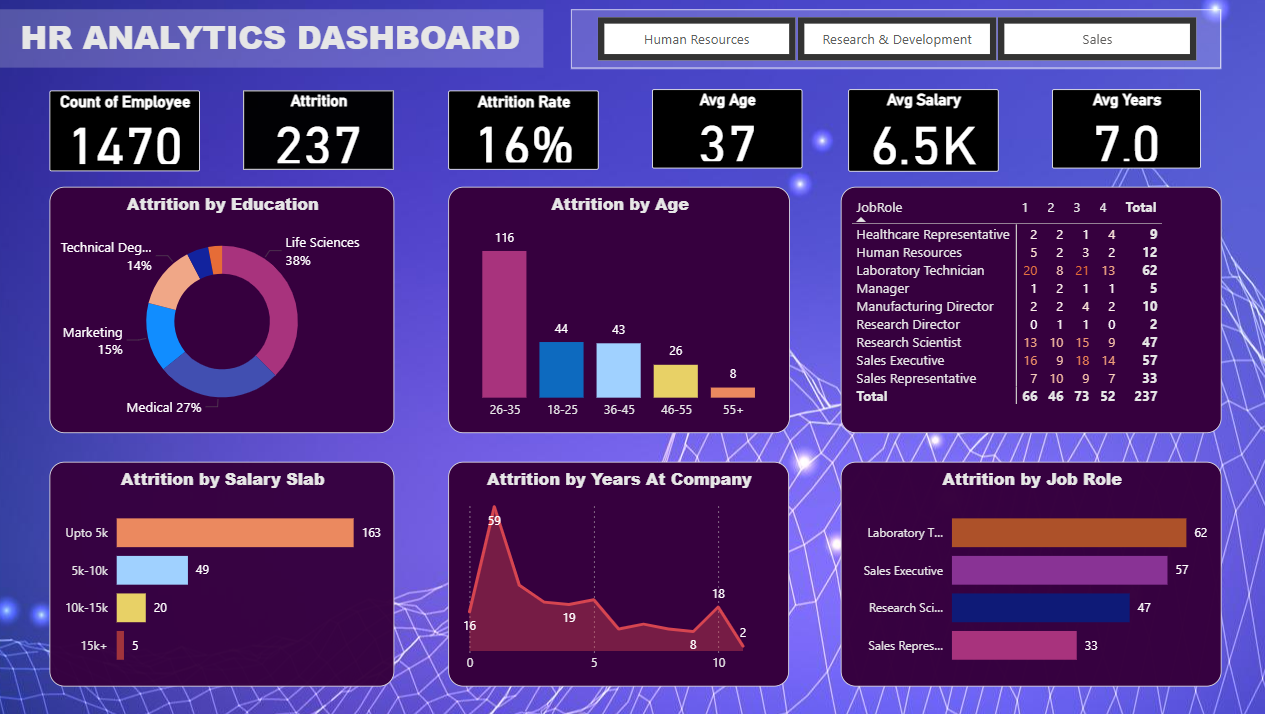

Layout of this report page (visuals, bound fields, positions):
{"tool":"powerbi","page":{"name":"Page 1","canvas":[1280,720],"ordinal":0},"visuals":[{"type":"card","title":"Count of Employee","fields":{"Values":["CountNonNull(HR_Analytics.EmpID)"]},"box":[51.9,92.3,150,80.8],"z":0},{"type":"card","title":"Attrition Rate","fields":{"Values":["HR_Analytics.AttritionRate"]},"box":[451.6,92.3,150,79.4],"z":1000},{"type":"card","title":"Avg Age","fields":{"Values":["Avg(HR_Analytics.Age)"]},"box":[655,90.9,150,79.4],"z":2000},{"type":"card","title":"Attrition","fields":{"Values":["Sum(HR_Analytics.AttritionCount)"]},"box":[246.7,92.3,150,79.4],"z":3000},{"type":"card","title":"Avg Salary","fields":{"Values":["Avg(HR_Analytics.MonthlyIncome)"]},"box":[851.2,90.9,150,82.2],"z":4000},{"type":"card","title":"Avg Years","fields":{"Values":["Avg(HR_Analytics.YearsAtCompany)"]},"box":[1054.7,90.9,148.6,79.4],"z":5000},{"type":"donutChart","title":"Attrition by Education","fields":{"Category":["HR_Analytics.EducationField"],"Y":["Sum(HR_Analytics.AttritionCount)"]},"box":[51.9,189,344.8,246.7],"z":6000},{"type":"columnChart","title":"Attrition by Age","fields":{"Category":["HR_Analytics.AgeGroup"],"Y":["Sum(HR_Analytics.AttritionCount)"]},"box":[451.6,189,341.9,246.7],"z":7000},{"type":"pivotTable","fields":{"Columns":["HR_Analytics.JobSatisfaction"],"Rows":["HR_Analytics.JobRole"],"Values":["Sum(HR_Analytics.AttritionCount)"]},"box":[844,189,380.9,246.7],"z":8000},{"type":"barChart","title":"Attrition by Salary Slab","fields":{"Category":["HR_Analytics.SalarySlab"],"Y":["Sum(HR_Analytics.AttritionCount)"]},"box":[51.9,463.1,344.8,225.1],"z":9000},{"type":"barChart","title":"Attrition by Job Role","fields":{"Category":["HR_Analytics.JobRole"],"Y":["Sum(HR_Analytics.AttritionCount)"]},"box":[844,463.1,380.9,225.1],"z":10000},{"type":"areaChart","title":"Attrition by Years At Company","fields":{"Category":["HR_Analytics.YearsAtCompany"],"Y":["Sum(HR_Analytics.AttritionCount)"]},"box":[451.6,463.1,340.5,225.1],"z":11000},{"type":"slicer","fields":{"Values":["HR_Analytics.Department"]},"box":[574.2,11.5,650.7,59.2],"z":12000},{"type":"textbox","box":[0,11.7,546.7,58.3],"z":13000}]}

Visuals, with their boxes in screenshot pixels (x1, y1, x2, y2), scaled from the page's 1280x720 canvas onto the 1265x714 screenshot:
"Count of Employee" card: detection(51, 92, 200, 172)
"Attrition Rate" card: detection(446, 92, 595, 170)
"Avg Age" card: detection(647, 90, 796, 169)
"Attrition" card: detection(244, 92, 392, 170)
"Avg Salary" card: detection(841, 90, 989, 172)
"Avg Years" card: detection(1042, 90, 1189, 169)
"Attrition by Education" donutChart: detection(51, 187, 392, 432)
"Attrition by Age" columnChart: detection(446, 187, 784, 432)
pivotTable - HR_Analytics.JobSatisfaction x HR_Analytics.JobRole: detection(834, 187, 1211, 432)
"Attrition by Salary Slab" barChart: detection(51, 459, 392, 682)
"Attrition by Job Role" barChart: detection(834, 459, 1211, 682)
"Attrition by Years At Company" areaChart: detection(446, 459, 783, 682)
slicer - HR_Analytics.Department: detection(567, 11, 1211, 70)
textbox: detection(0, 12, 540, 69)
